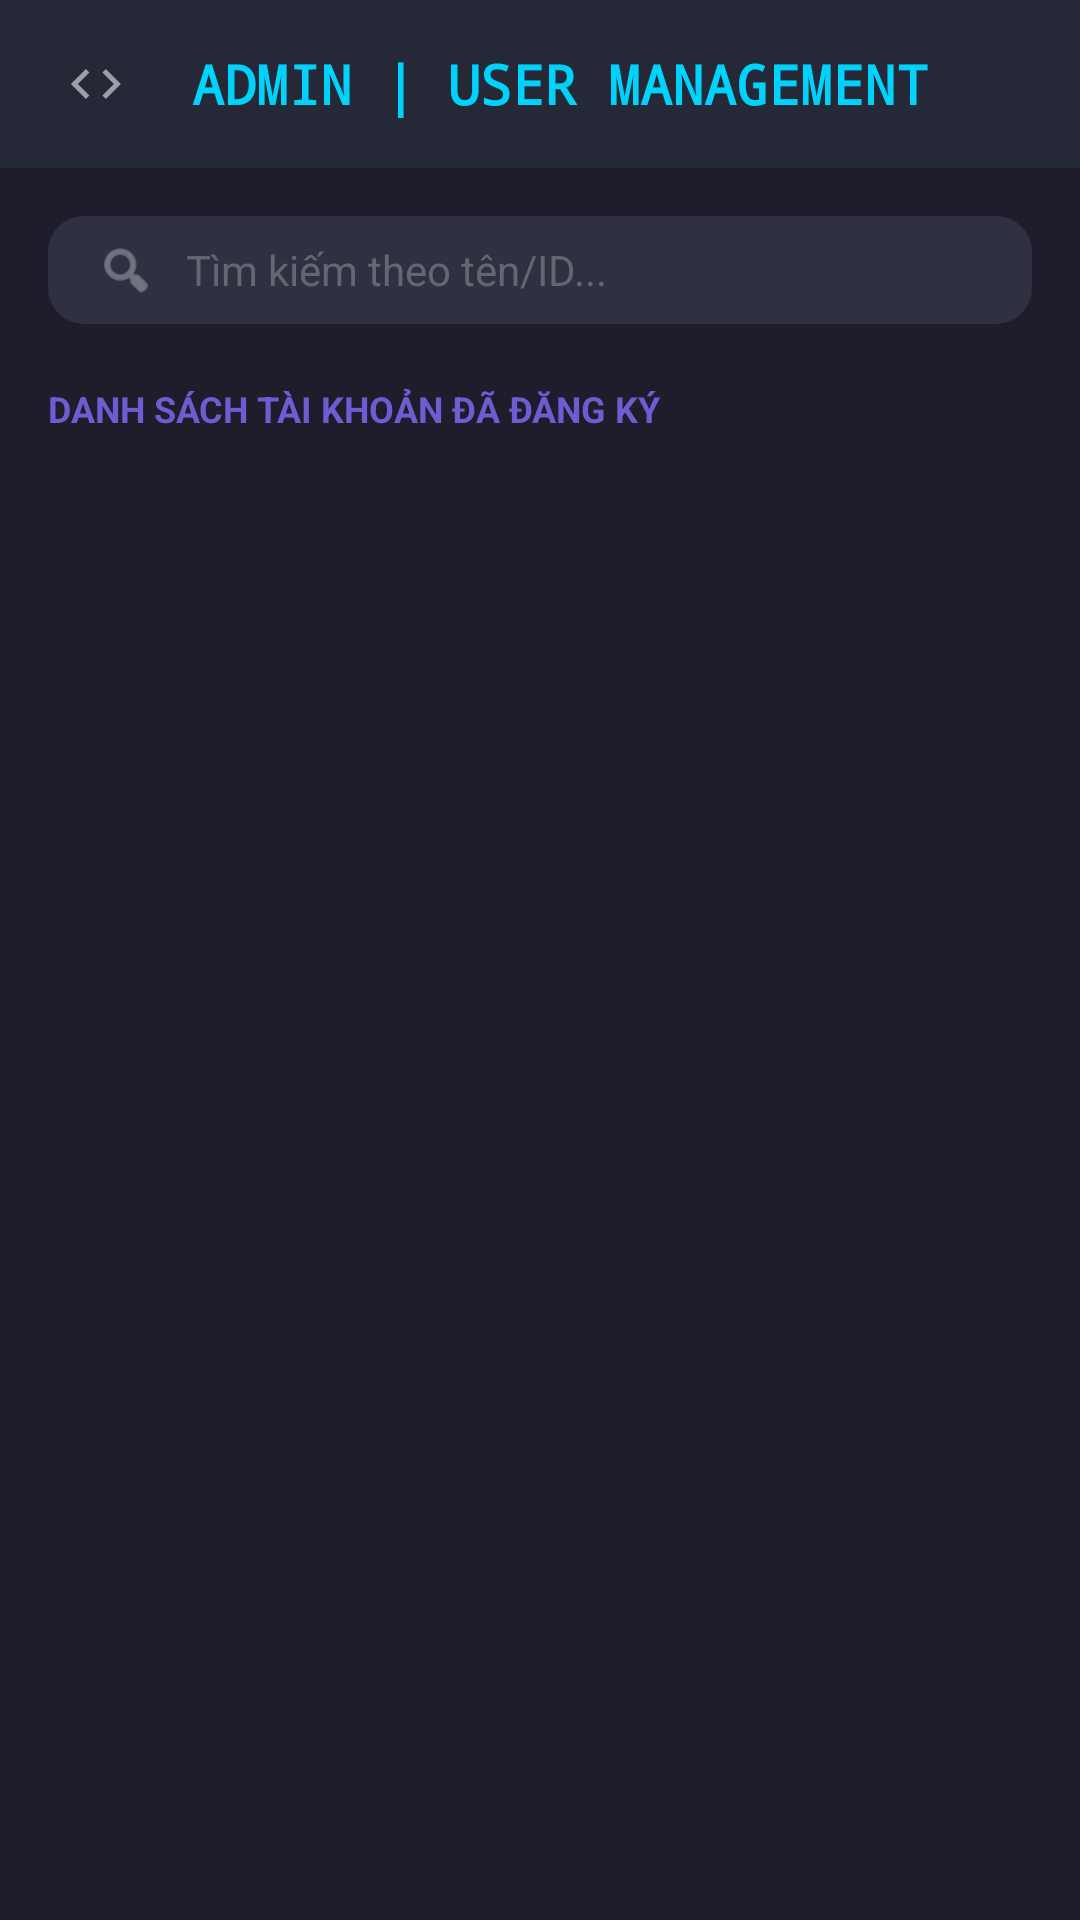

Screen size 1080 x 1920. Icon name, then its box in pixels as (x1, y1, x2, y2):
search: (104, 248, 148, 292)
